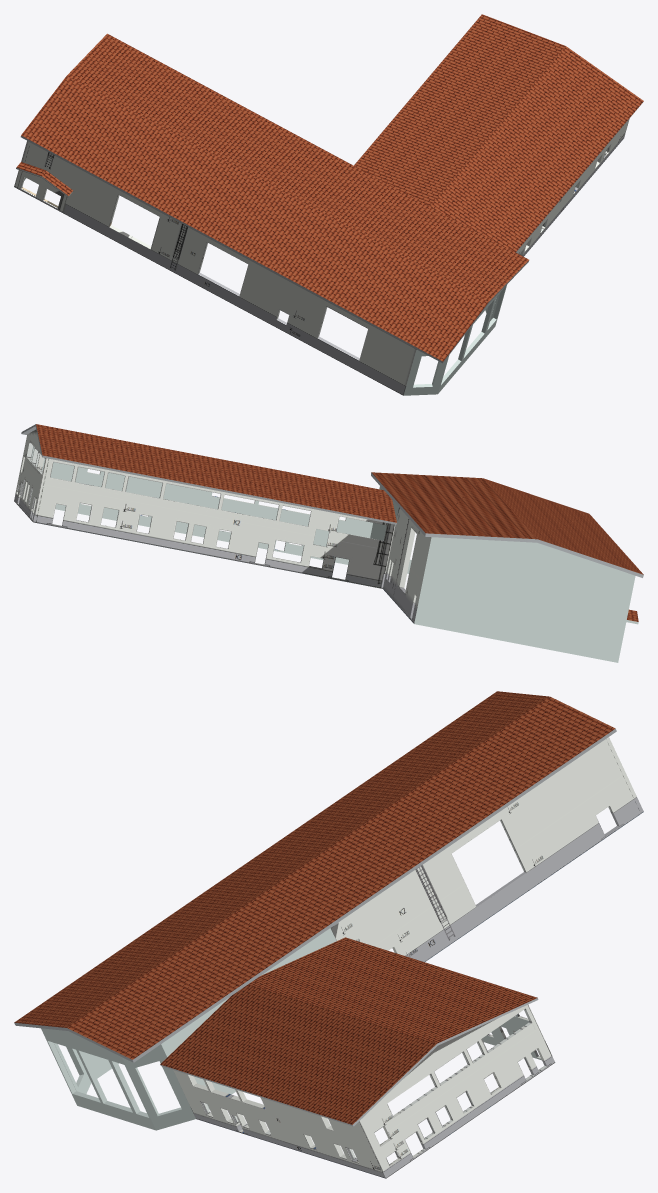
The model's file is Коровник_Cow_Barn_Model.fbx.
3 views of the same model, one above another, from view 1: azimuth 30°, elevation 25°; view 2: azimuth 150°, elevation 25°; view 3: azimuth 270°, elevation 25° (orthographic). The views are drawn at different scales.
Parts seen in each view (by area): view 1: GeometryNode_75, GeometryNode_28, GeometryNode_52, GeometryNode_4, GeometryNode_87; view 2: GeometryNode_52, GeometryNode_75, GeometryNode_40, GeometryNode_16, GeometryNode_87, GeometryNode_63; view 3: GeometryNode_75, GeometryNode_16, GeometryNode_63, GeometryNode_52, GeometryNode_4, GeometryNode_87.
Boxes of the visible parts, x1,y1,x2,y2 form: GeometryNode_75: (16, 14, 643, 361); GeometryNode_28: (14, 141, 416, 395); GeometryNode_52: (24, 177, 507, 395); GeometryNode_4: (516, 119, 629, 256); GeometryNode_87: (20, 102, 642, 363); GeometryNode_52: (31, 446, 638, 662); GeometryNode_75: (36, 424, 643, 621); GeometryNode_40: (33, 458, 395, 588); GeometryNode_16: (383, 507, 431, 623); GeometryNode_87: (21, 424, 643, 577); GeometryNode_63: (14, 429, 45, 521); GeometryNode_75: (14, 691, 615, 1124); GeometryNode_16: (330, 737, 643, 962); GeometryNode_63: (359, 1005, 555, 1178); GeometryNode_52: (41, 928, 541, 1130); GeometryNode_4: (173, 1070, 385, 1178); GeometryNode_87: (14, 728, 616, 1126).
Size of the model in its own units: 80274 by 31965 by 60391.
8 materials, 7 textured.
